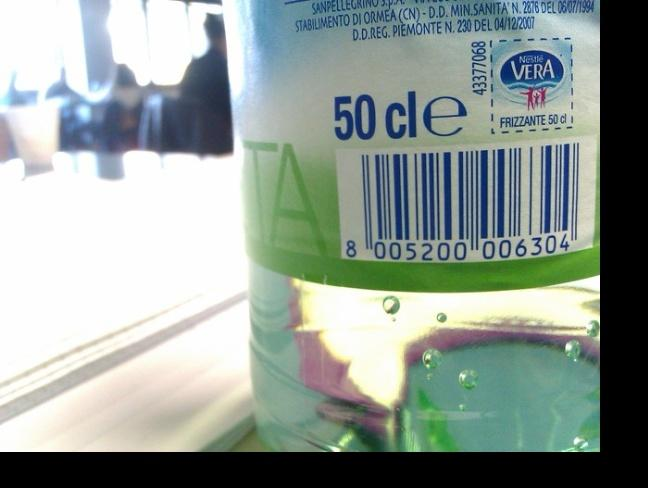Barcode: (336, 134, 594, 261)
